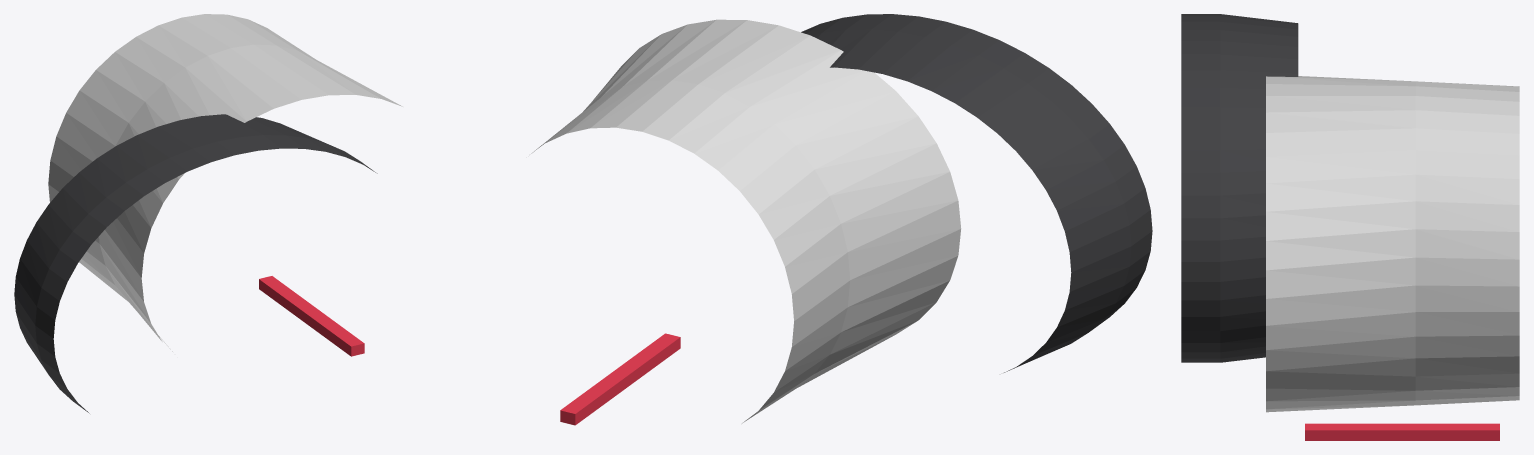
The model's file is short_treino.glb.
The picture shows the model from 3 angles, left to right: view 1: azimuth 30°, elevation 25°; view 2: azimuth 150°, elevation 25°; view 3: azimuth 270°, elevation 25°; orthographic projection. The views are drawn at different scales.
Parts seen in each view (by area): view 1: ShortLeg, Waistband, Red_Side_Stripe; view 2: ShortLeg, Waistband, Red_Side_Stripe; view 3: ShortLeg, Waistband, Red_Side_Stripe.
Part boxes in pixels (box(x1,y1,x2,y2)): ShortLeg: box(48, 14, 402, 351); Waistband: box(14, 114, 377, 413); Red_Side_Stripe: box(259, 276, 364, 356); ShortLeg: box(531, 19, 961, 423); Waistband: box(801, 14, 1152, 372); Red_Side_Stripe: box(560, 333, 680, 425); ShortLeg: box(1266, 76, 1519, 412); Waistband: box(1181, 14, 1298, 362); Red_Side_Stripe: box(1305, 423, 1499, 440).
Size of the model in its own units: 0.84 by 0.514 by 0.52.
